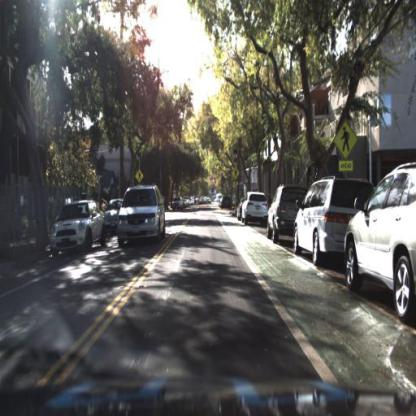car: (345, 163, 416, 325), (293, 179, 381, 271), (114, 183, 168, 250), (116, 176, 167, 246), (49, 200, 107, 260), (265, 183, 308, 247), (240, 189, 269, 227), (238, 192, 247, 224), (221, 193, 234, 214), (171, 196, 185, 212)
